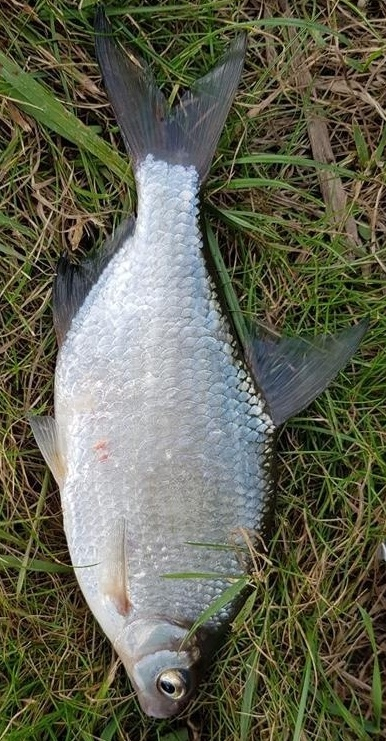Blicca bjoerkna: (20, 20, 366, 721)
